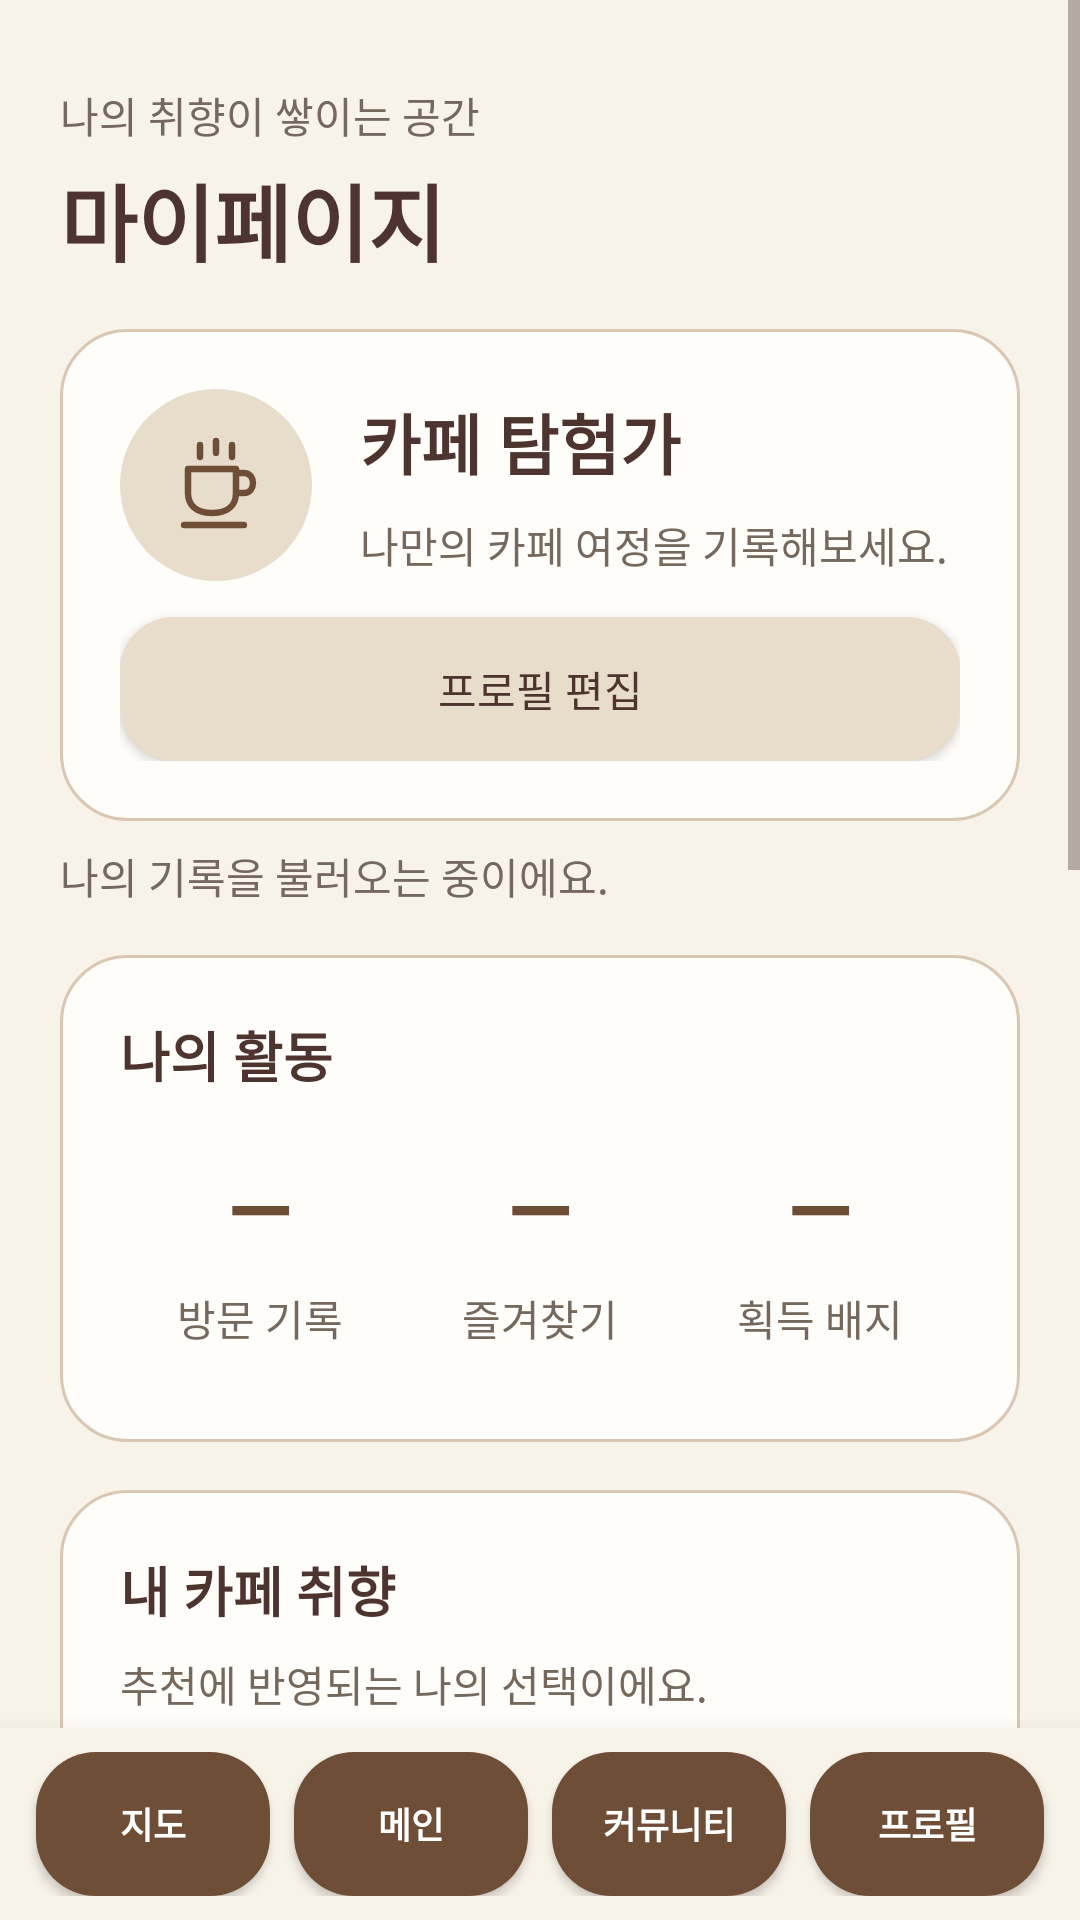

Named icons in this screenshot (1080×1920) and their centers, (x,y):
profile cup: (216,485)
